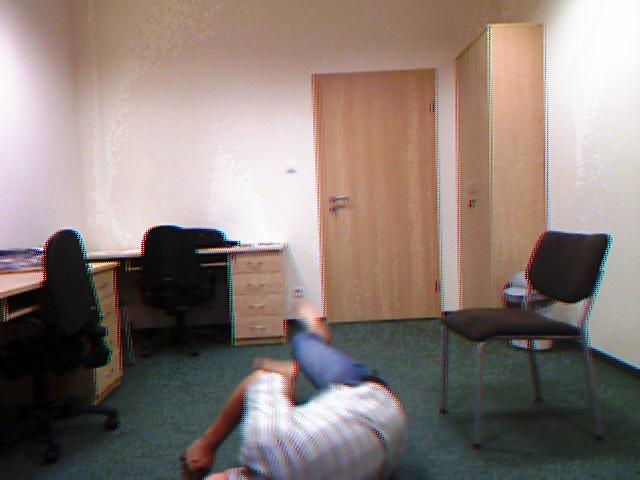fall: (181, 302, 408, 479)
